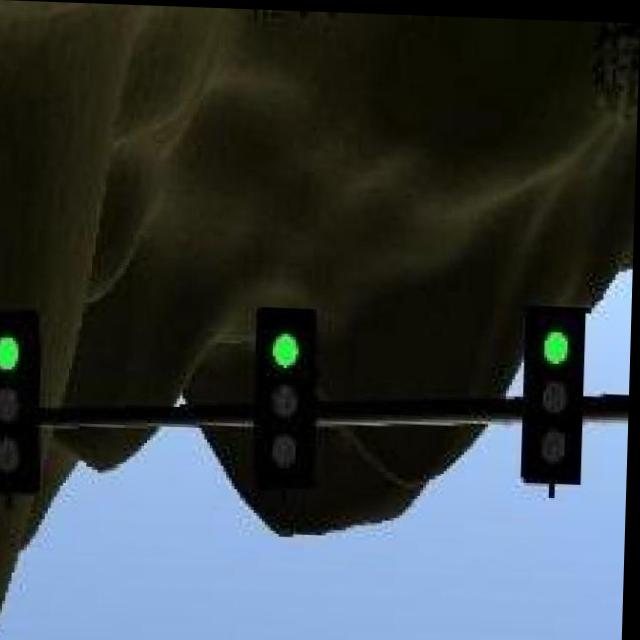green light: (255, 305, 316, 489), (526, 304, 587, 482), (0, 311, 44, 492)
